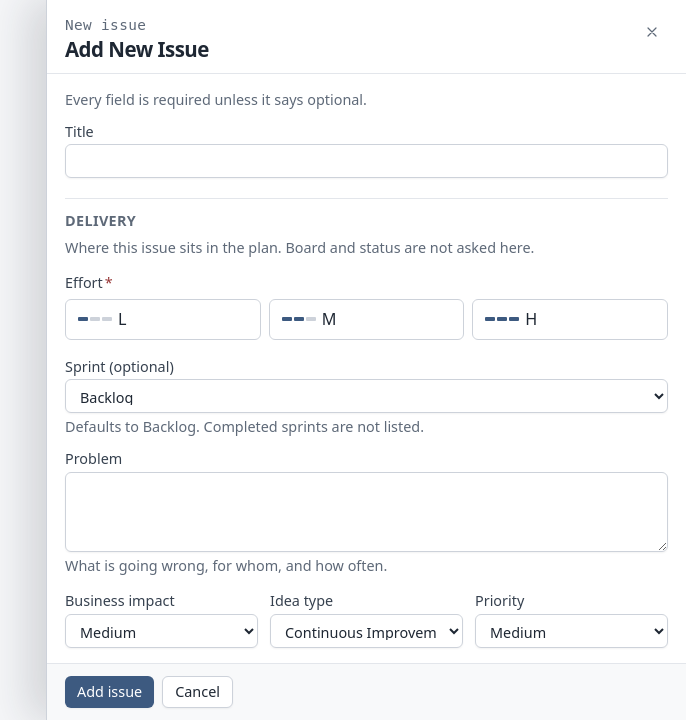
Scenario: BacklogAdd drawer › stays open and shows the refusal when the save is refused
Type "Fix the dock door" into the field labelled "Title" at (366, 161), box [65, 144, 668, 178]
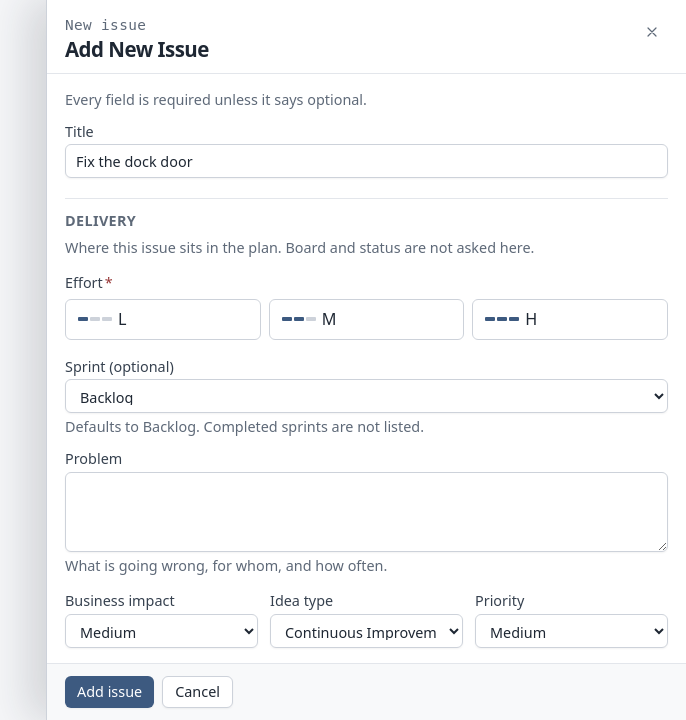
Type "It jams." into the text box labelled "Problem" at (366, 512), box [65, 472, 668, 552]
(page scrolled)
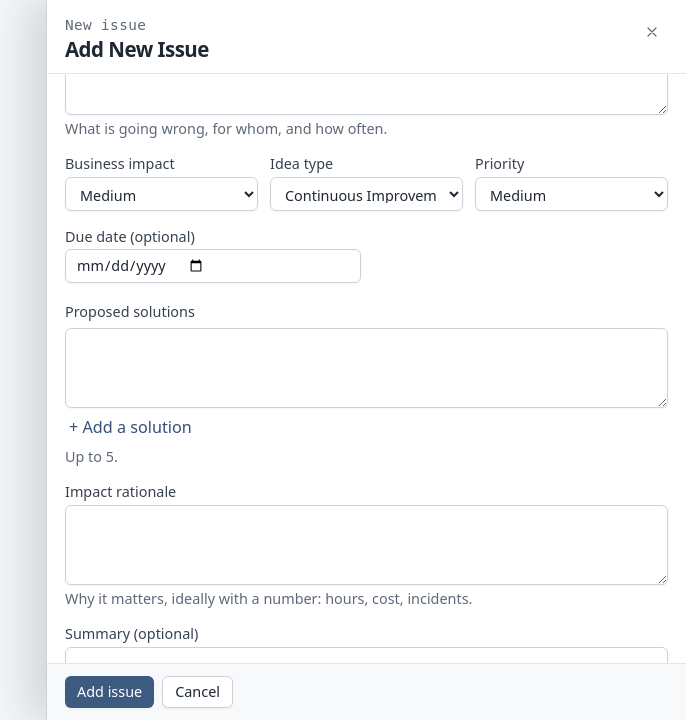
Type "New track" into the text box named "Solution 1" at (366, 368), box [65, 328, 668, 408]
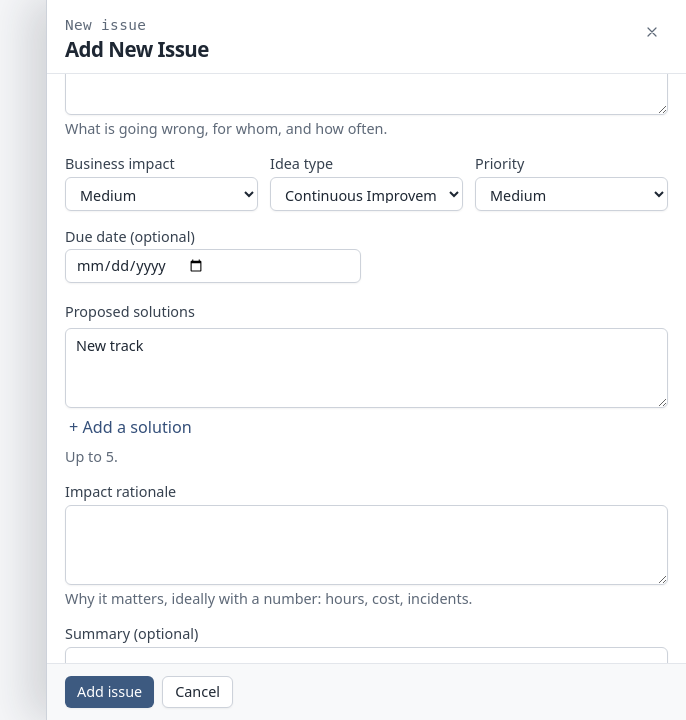
Type "Hours." into the text box labelled "Impact rationale" at (366, 545), box [65, 505, 668, 585]
(page scrolled)
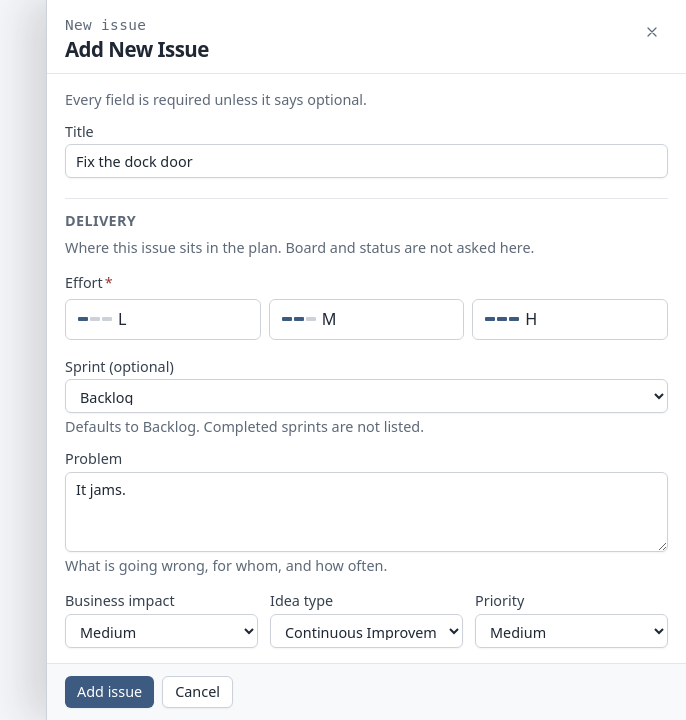
Click the radio button named "Low effort" at (163, 319), box [65, 299, 261, 340]
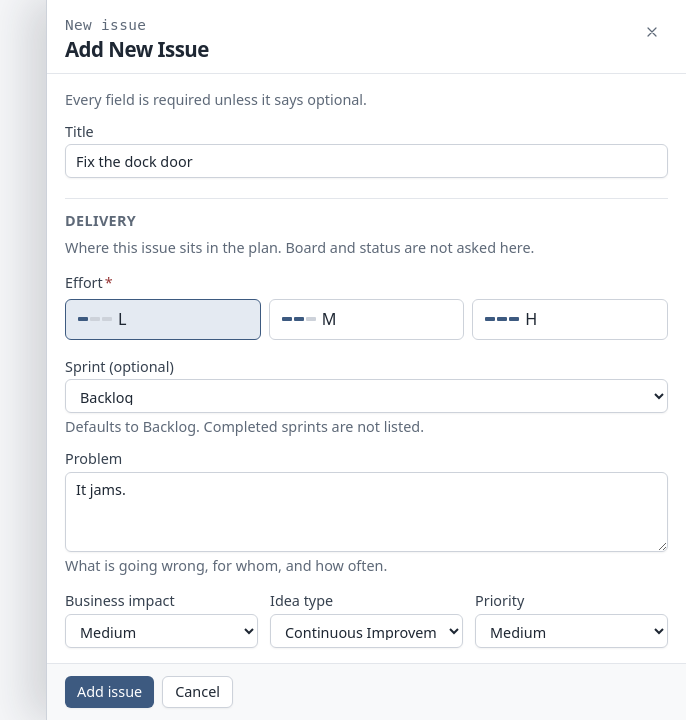
Click the button "Add issue" at (110, 692), box [65, 676, 154, 708]
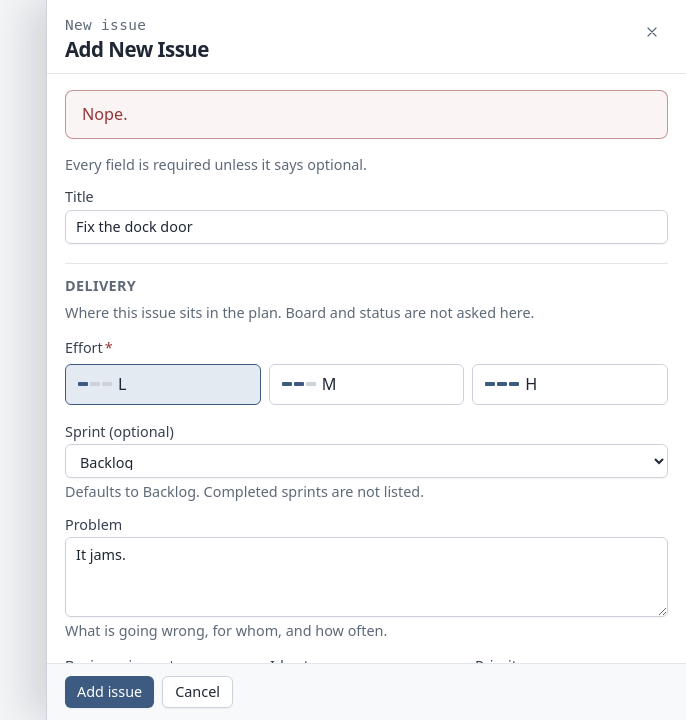
expect the message reads "Nope.": met, box [82, 103, 128, 125]
